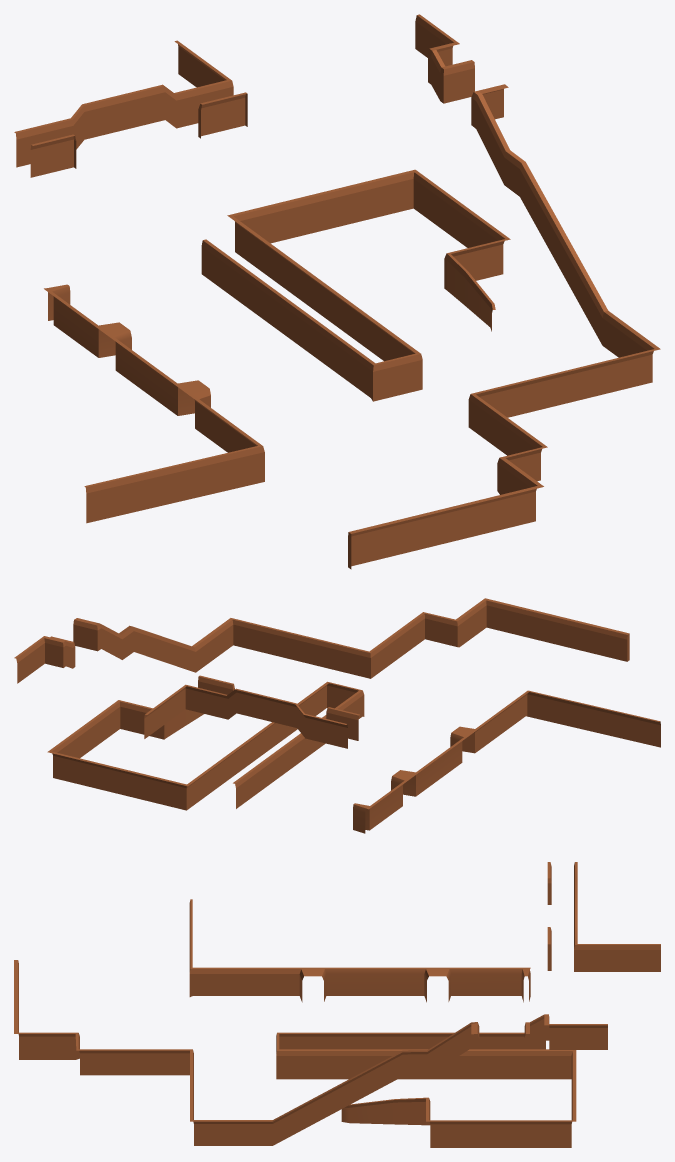
File: Baseboard.fbx
3 views of the same model, one above another, from view 1: azimuth 30°, elevation 25°; view 2: azimuth 150°, elevation 25°; view 3: azimuth 270°, elevation 25° (orthographic). The views are drawn at different scales.
Visible parts, largest first — view 1: BaseBoard; view 2: BaseBoard; view 3: BaseBoard.
Boxes of the visible parts, bbox=[...] form: BaseBoard: bbox=[14, 14, 660, 569]; BaseBoard: bbox=[14, 598, 660, 833]; BaseBoard: bbox=[14, 862, 660, 1147].
Bounding box in the file's own units: 1393 × 401 × 1649.
